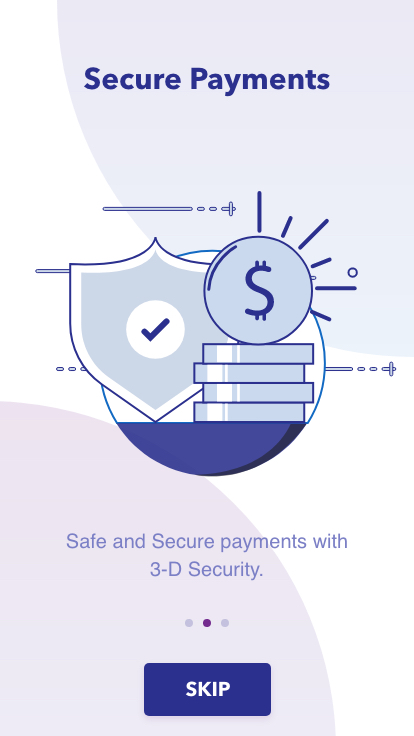Image: (35, 191, 397, 477)
PageIndicator: (185, 618, 230, 628)
Text: (67, 532, 348, 581), (84, 67, 330, 98)
TextButton: (144, 663, 272, 716)
